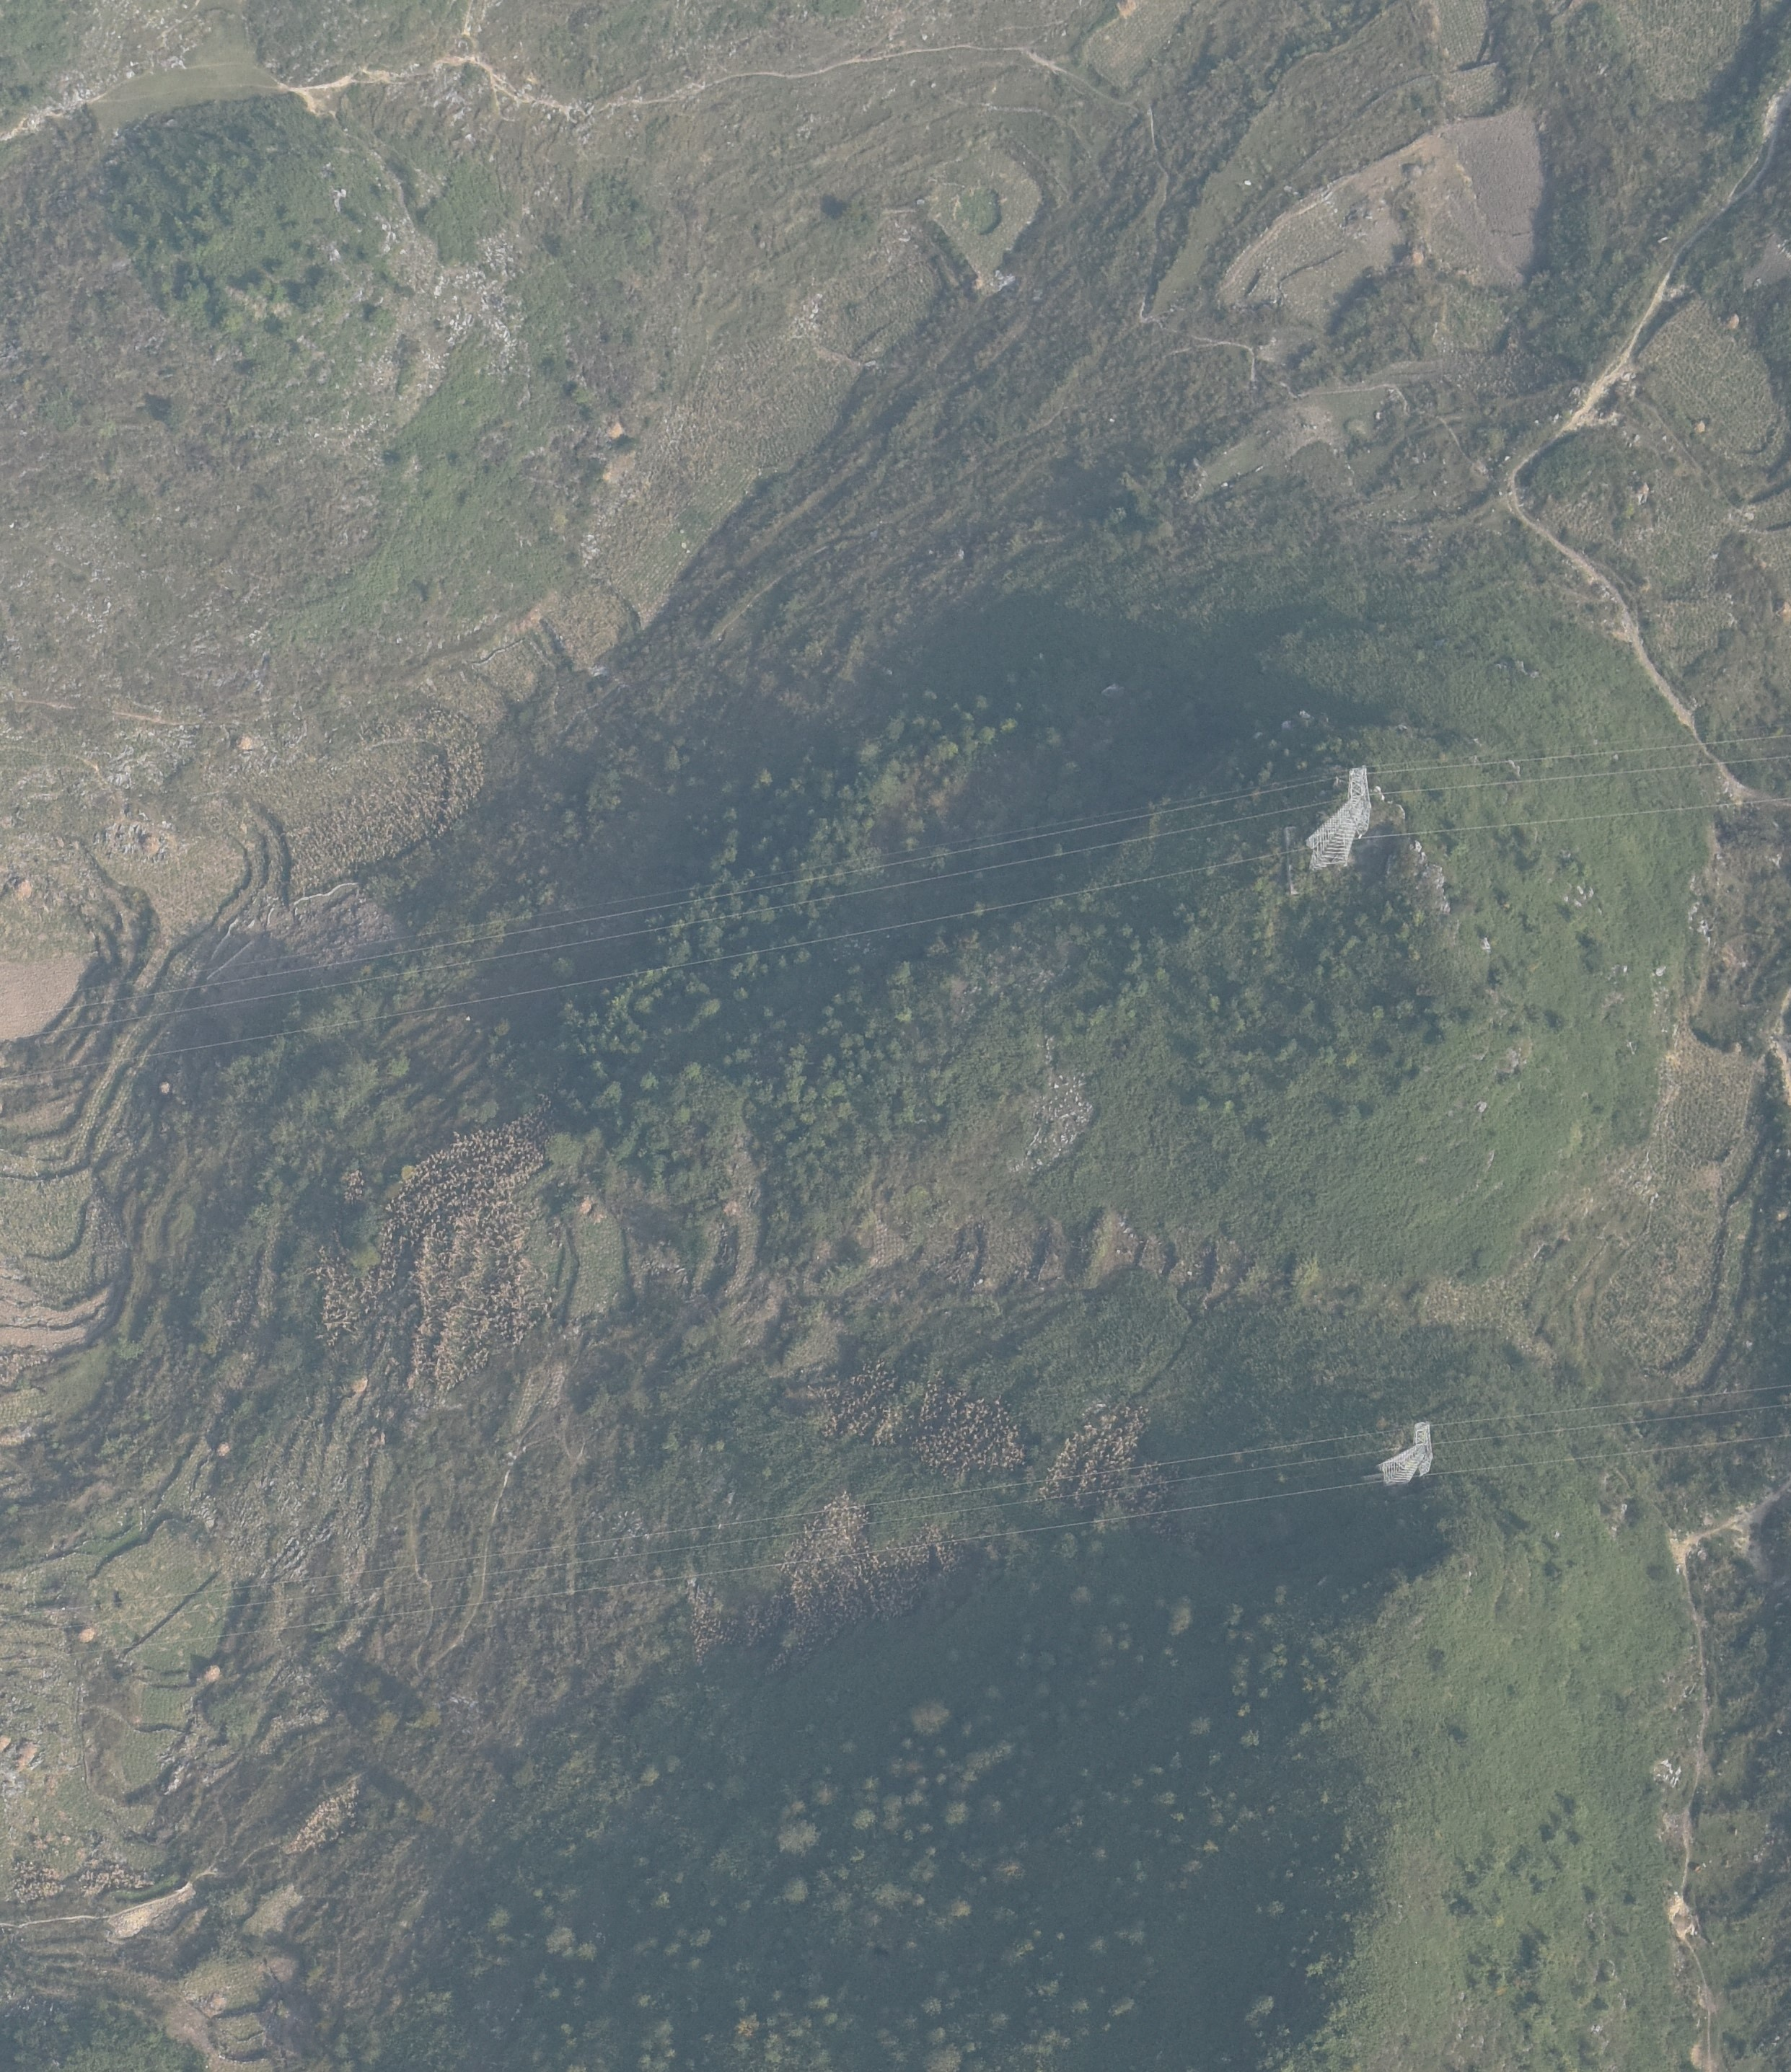cable-tower: (1304, 763, 1371, 870), (1379, 1420, 1433, 1487)
